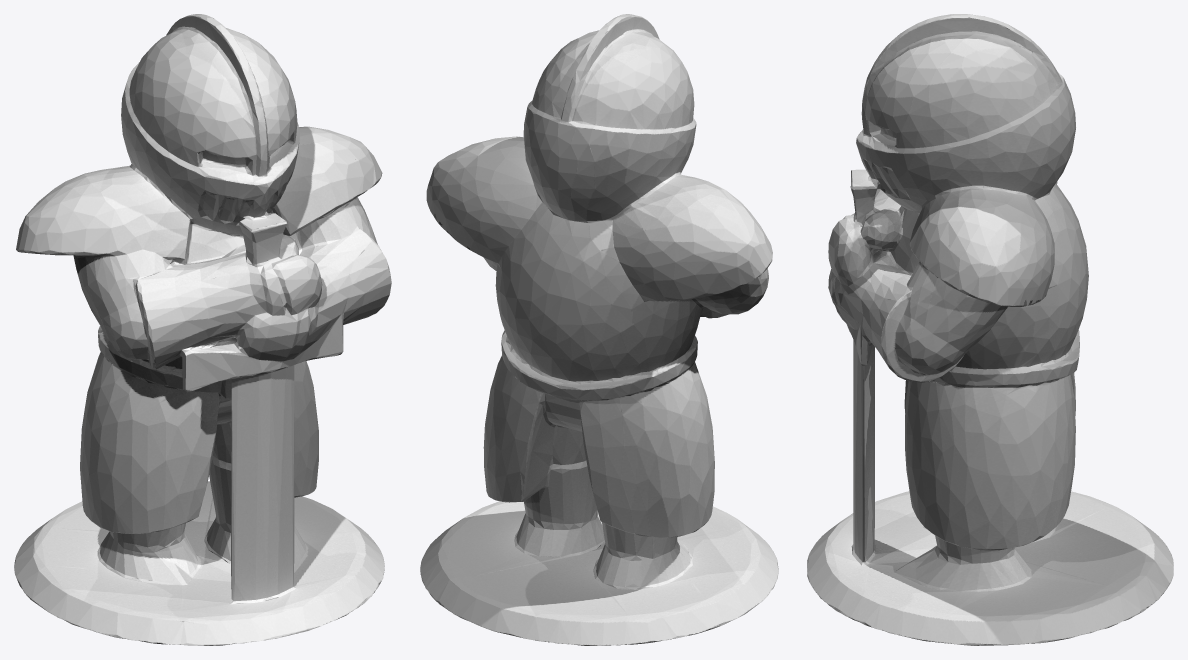
File: Knight.obj
The picture shows the model from 3 angles, left to right: view 1: azimuth 30°, elevation 25°; view 2: azimuth 150°, elevation 25°; view 3: azimuth 270°, elevation 25°; orthographic projection. The views are drawn at different scales.
Visible parts, largest first — view 1: Knight; view 2: Knight; view 3: Knight.
Boxes of the visible parts, x1,y1,x2,y2 form: Knight: (14, 14, 391, 645); Knight: (420, 14, 778, 645); Knight: (807, 14, 1173, 645).
Size of the model in its own units: 1.22 by 1.85 by 1.11.
